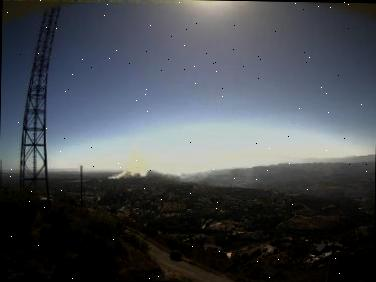smoke: (108, 163, 217, 183)
